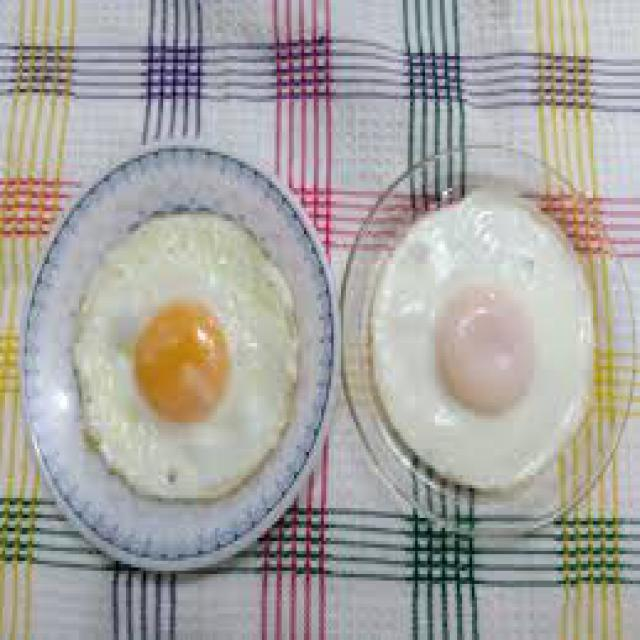Fried Egg: (369, 196, 593, 495), (74, 212, 298, 502)
